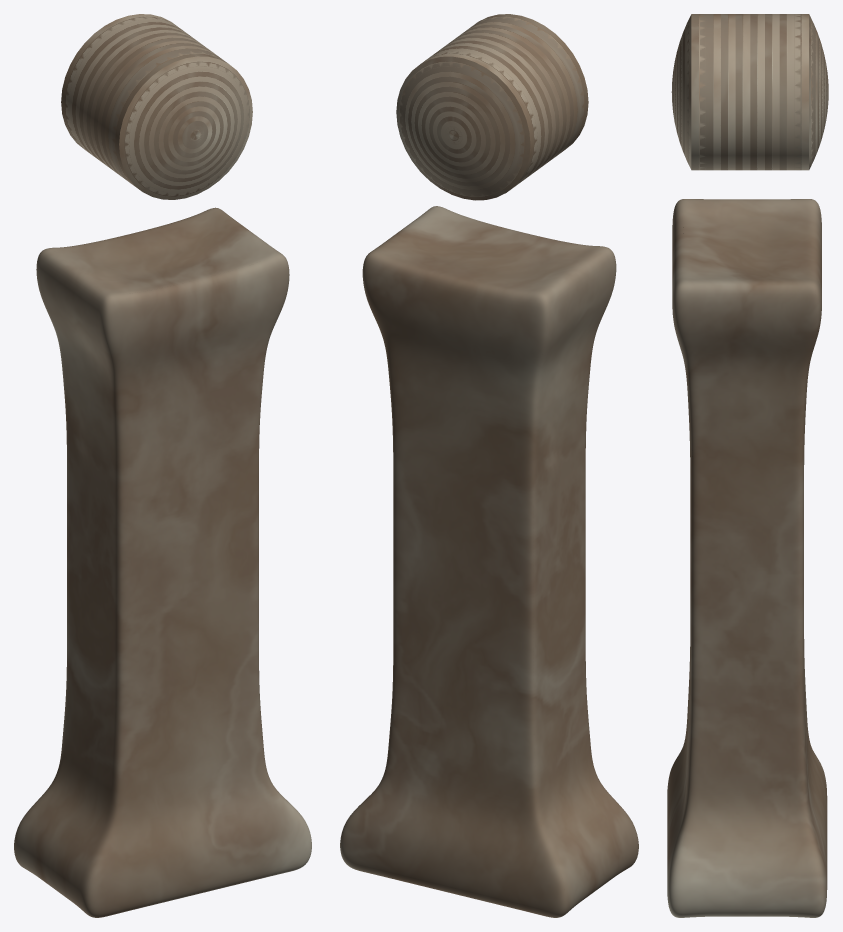
Rendered from AinSoph.fbx.
3 renders of one model, left to right at view 1: azimuth 30°, elevation 25°; view 2: azimuth 150°, elevation 25°; view 3: azimuth 270°, elevation 25°, orthographic.
Parts seen in each view (by area): view 1: Eye, Oil_Tank; view 2: Eye, Oil_Tank; view 3: Eye, Oil_Tank.
Boxes of the visible parts, <box> form: Eye: <box>14,207,311,917</box>; Oil_Tank: <box>61,14,252,199</box>; Eye: <box>340,206,638,917</box>; Oil_Tank: <box>396,14,588,200</box>; Eye: <box>667,199,827,917</box>; Oil_Tank: <box>671,14,828,170</box>.
Bounding box in the file's own units: 64.62 × 226 × 39.07.
Materials: 2 (2 with a texture image).
